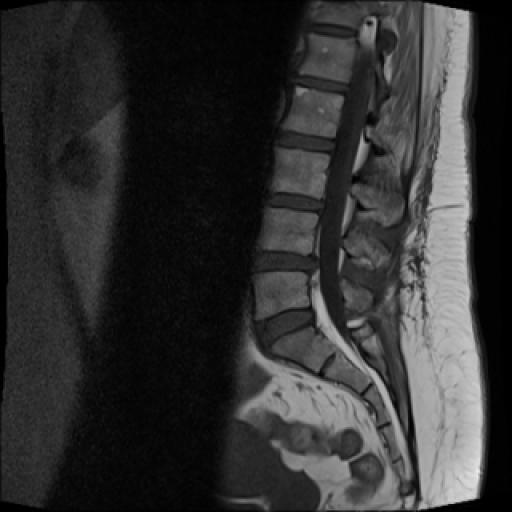L1: (271, 327, 335, 374)
